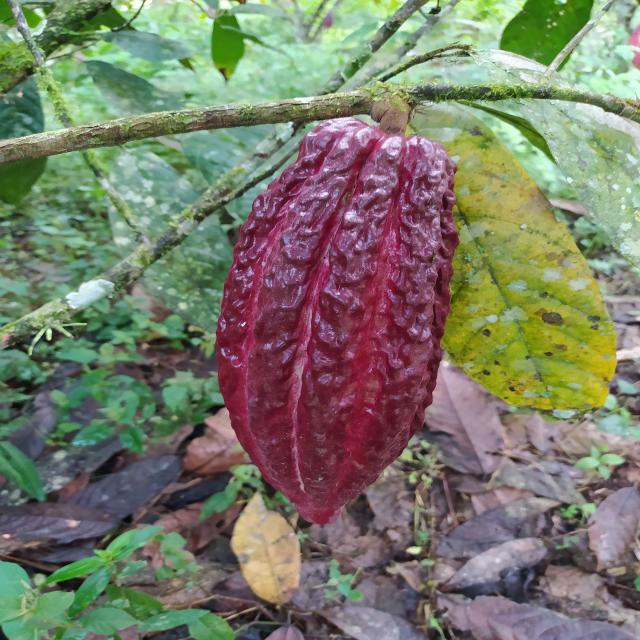Sana: (215, 118, 461, 529)
